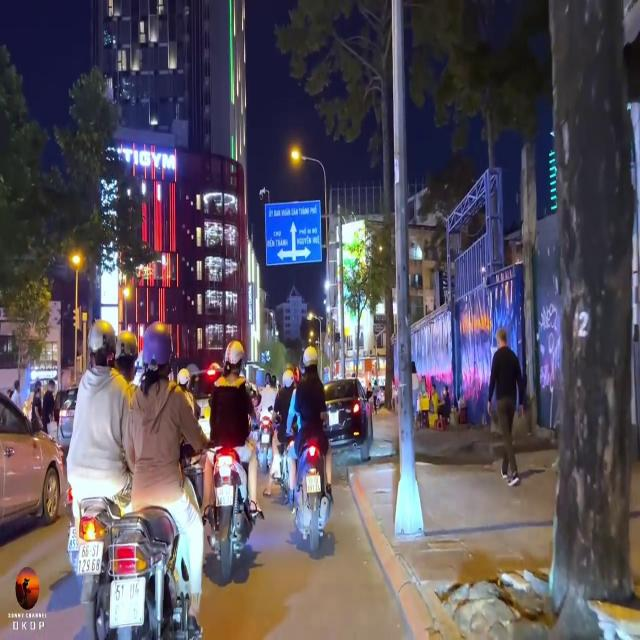bien_trang: (76, 540, 105, 578)
